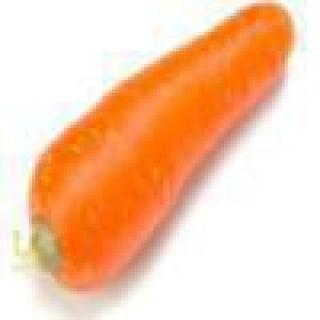Wortel: (5, 1, 312, 302)
